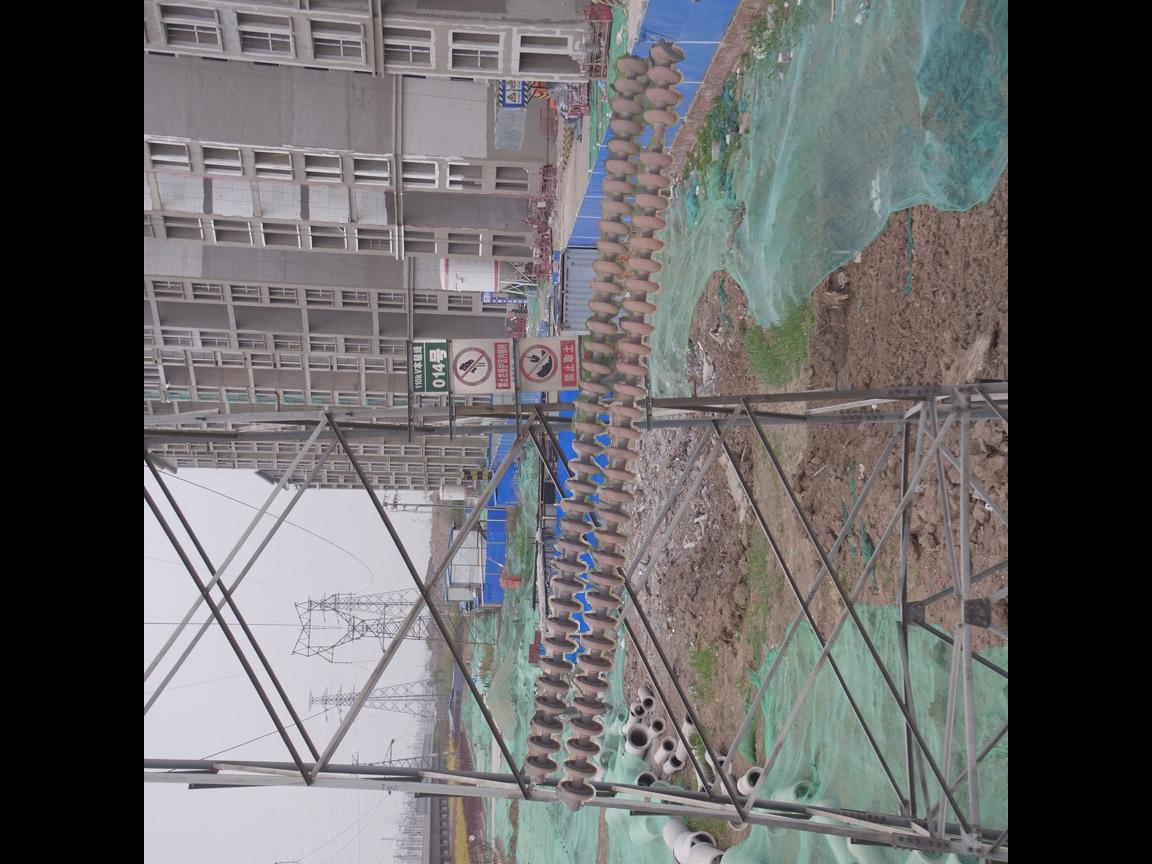insulator: (519, 35, 688, 810)
insulator_stringdrop: (637, 106, 681, 171)
